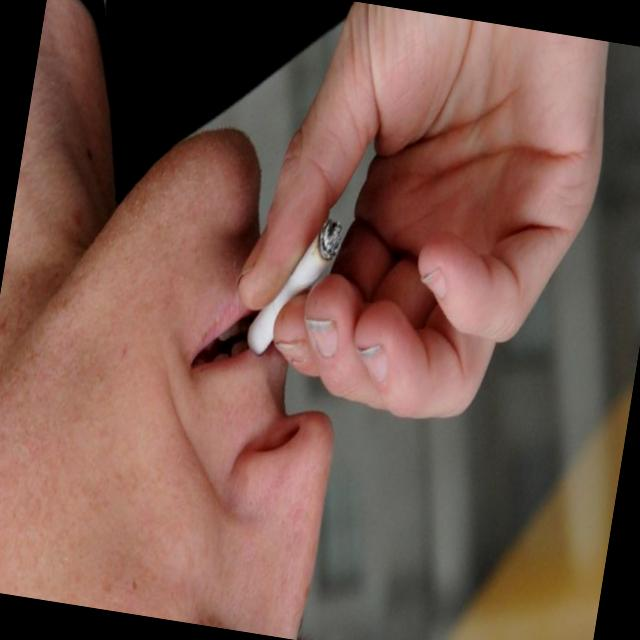smoke: (243, 208, 346, 366)
